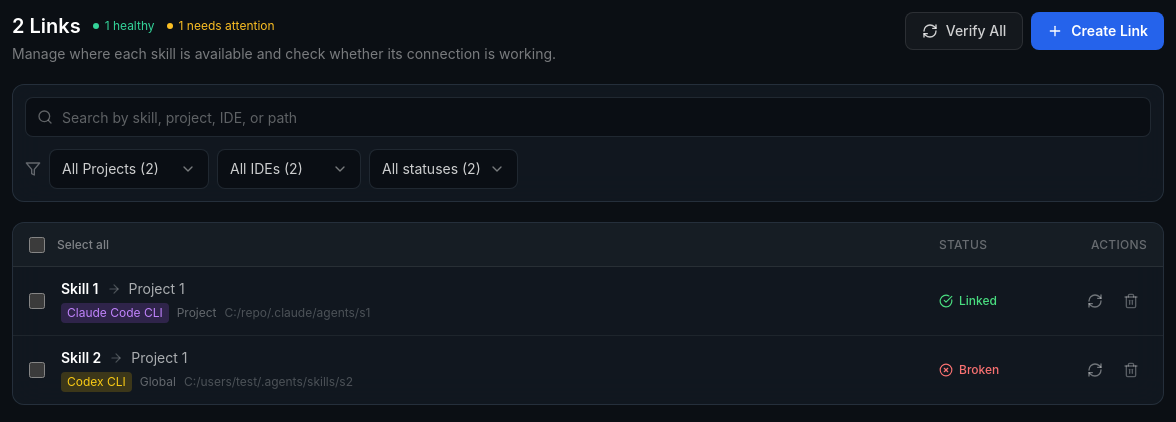
Test: LinksPage › keeps discovery controls visible and filters links by search
The width and height of the screenshot is (1176, 422).
Expected: the heading "2 Links" is shown, [12,12,81,40]
Expected: the dropdown named "Filter by project" is shown, [49,149,209,189]
Type "Skill 2" into the search field named "Search links". click: (588, 117)
box: [25,97,1151,137]
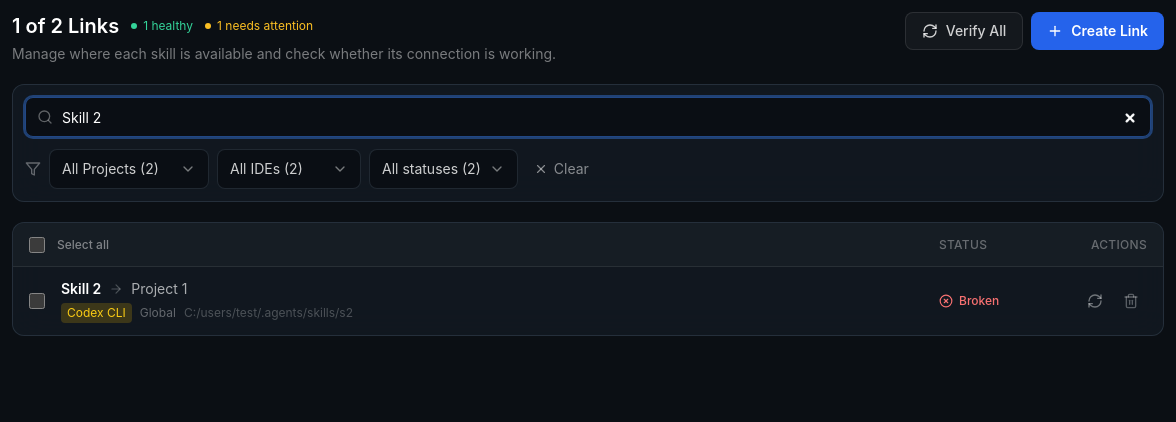
Expected: the text "Skill 2" is shown, [61,279,101,299]
Now the heading "1 of 2 Links" is shown, box [12,12,119,40]
Now the text "Skill 1" is gone
